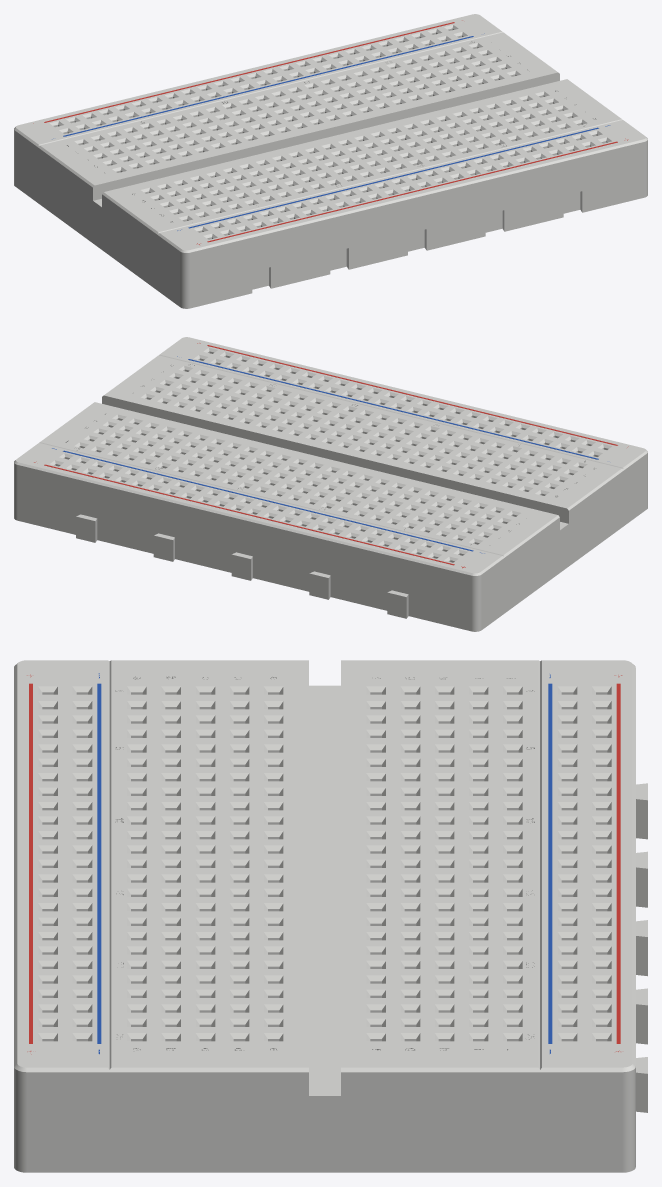
File: breadboard.glb
The picture shows the model from 3 angles, top to bottom: view 1: azimuth 30°, elevation 25°; view 2: azimuth 150°, elevation 25°; view 3: azimuth 270°, elevation 25°; orthographic projection. The views are drawn at different scales.
Parts seen in each view (by area): view 1: breadboard; view 2: breadboard; view 3: breadboard.
Part boxes in pixels (box(x1,y1,x2,y2)): breadboard: box(14, 14, 647, 308); breadboard: box(14, 337, 647, 631); breadboard: box(14, 660, 647, 1172).
Size of the model in its own units: 72.14 by 8.53 by 47.12.
